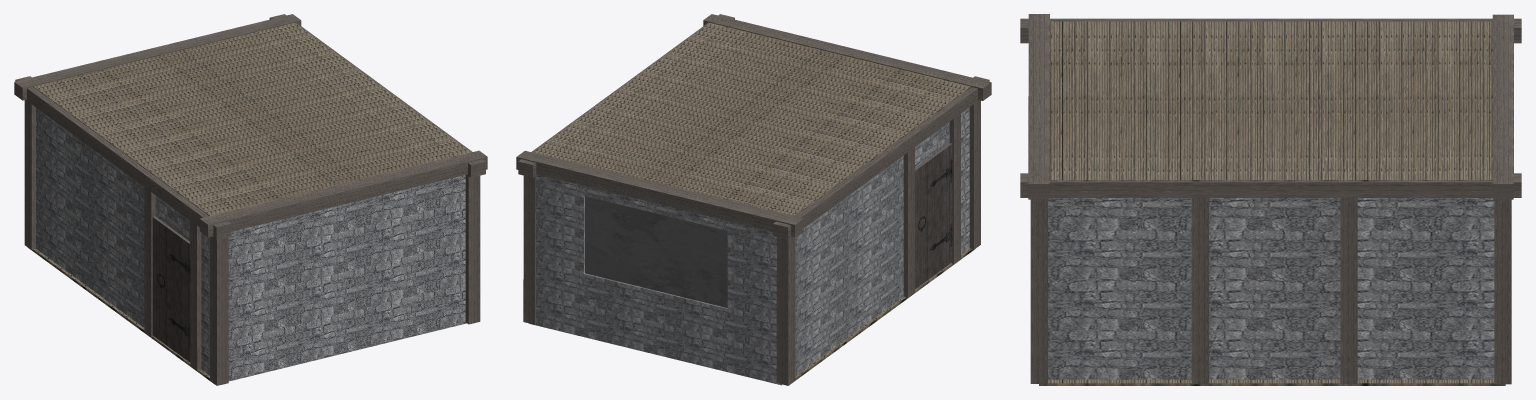
Rendered from GUARDHOUSE.fbx.
3 views of the same model, side by side, from view 1: azimuth 30°, elevation 25°; view 2: azimuth 150°, elevation 25°; view 3: azimuth 270°, elevation 25° (orthographic). The views are drawn at different scales.
Parts seen in each view (by area): view 1: Cube.006; view 2: Cube.006; view 3: Cube.006.
Boxes of the visible parts, <box> form: Cube.006: <box>14,14,487,385</box>; Cube.006: <box>516,14,991,385</box>; Cube.006: <box>1020,14,1521,385</box>.
Bounding box in the file's own units: 1761 × 998 × 2199.
Materials: 2 (2 with a texture image).
